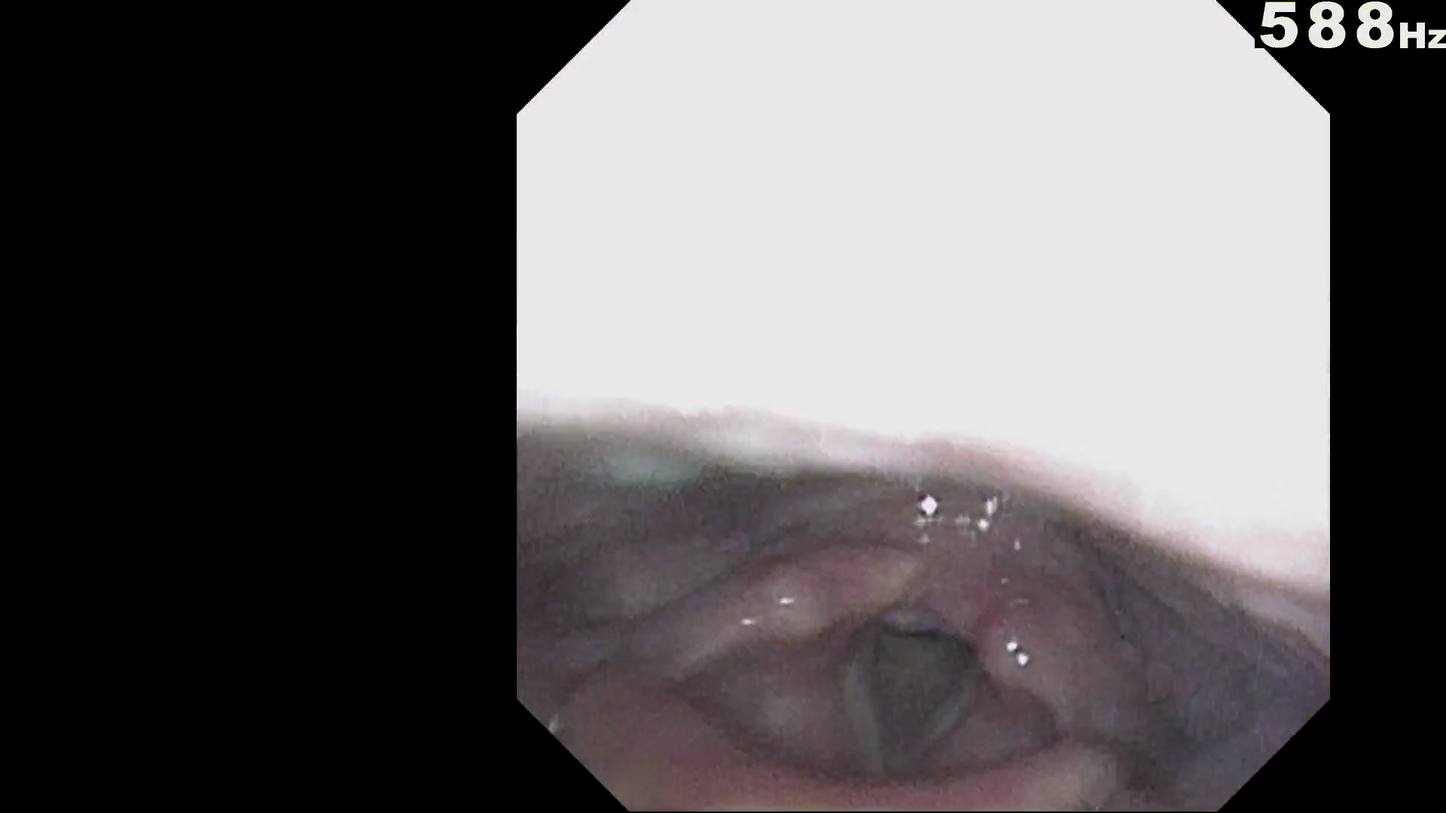trachea: (857, 613, 982, 767)
